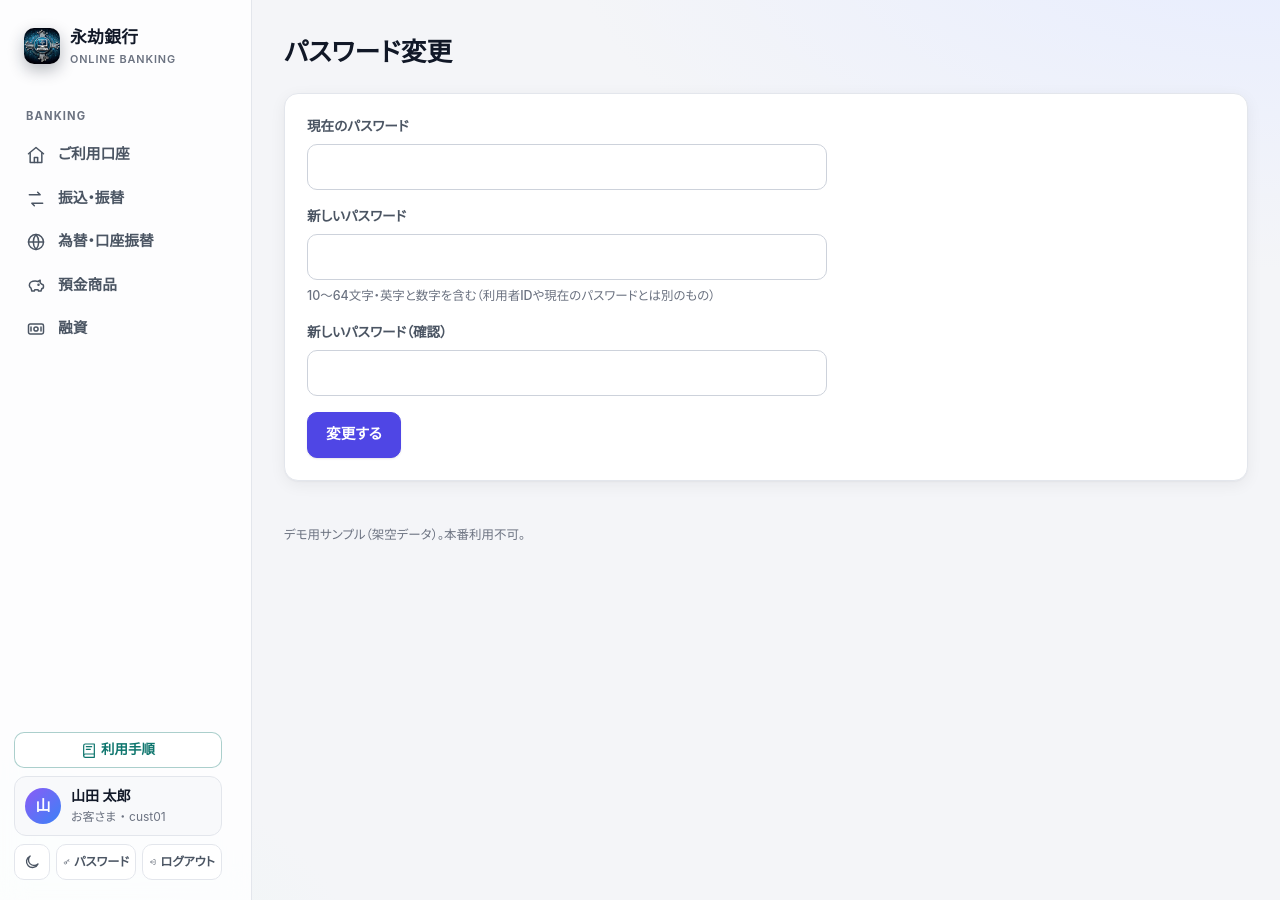
Test: PasswordPage › 変更に成功したら入力を消してトップへ移動する
Type "OldPass2025" into the password field labelled "現在のパスワード".
click(567, 167); type("OldPass2025")  # box [307, 144, 827, 190]
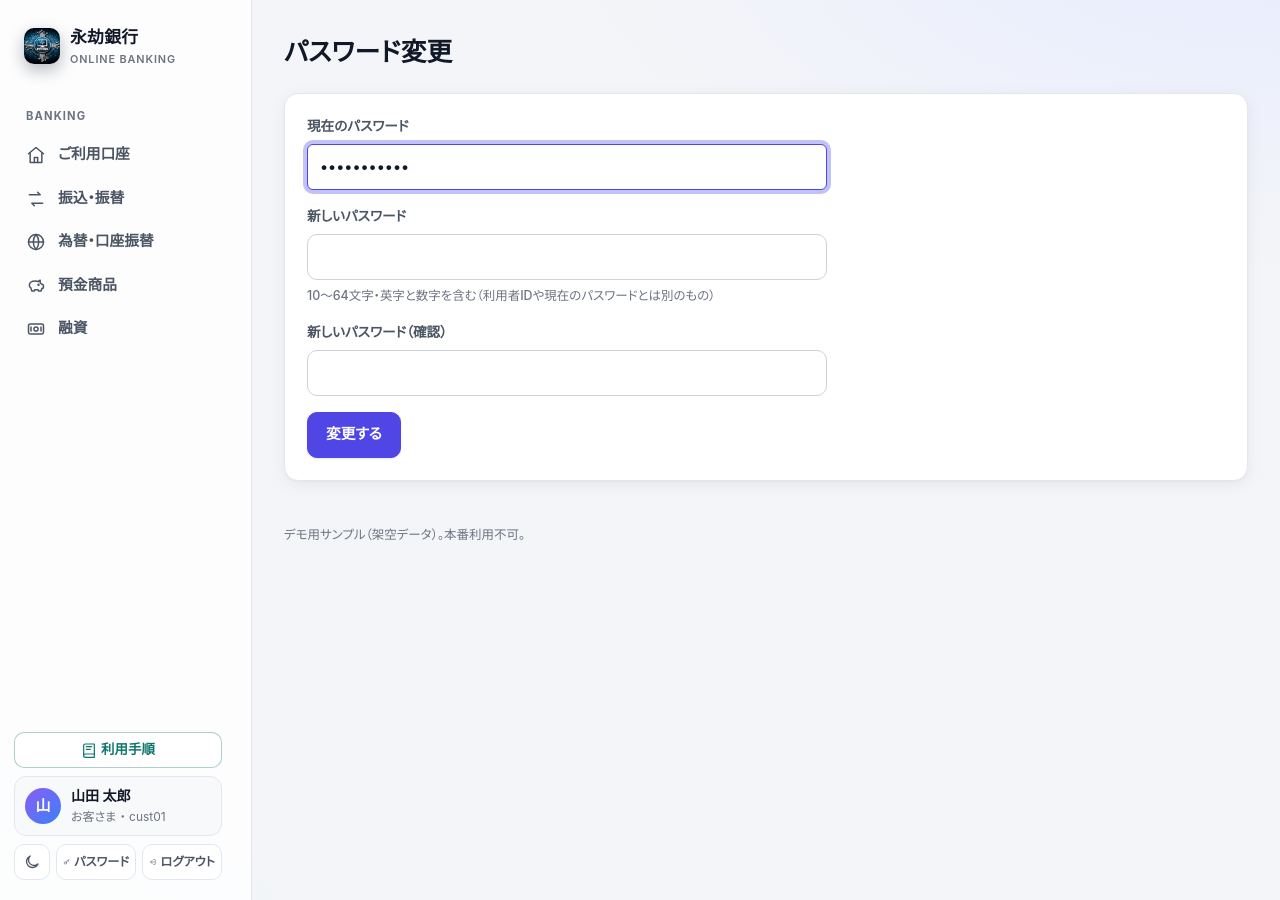
Type "NewPass2026x" into the password field labelled "新しいパスワード 10〜64文字・英字と数字を含む（利用者IDや現在のパスワードとは別のもの）".
click(567, 257); type("NewPass2026x")  # box [307, 234, 827, 280]
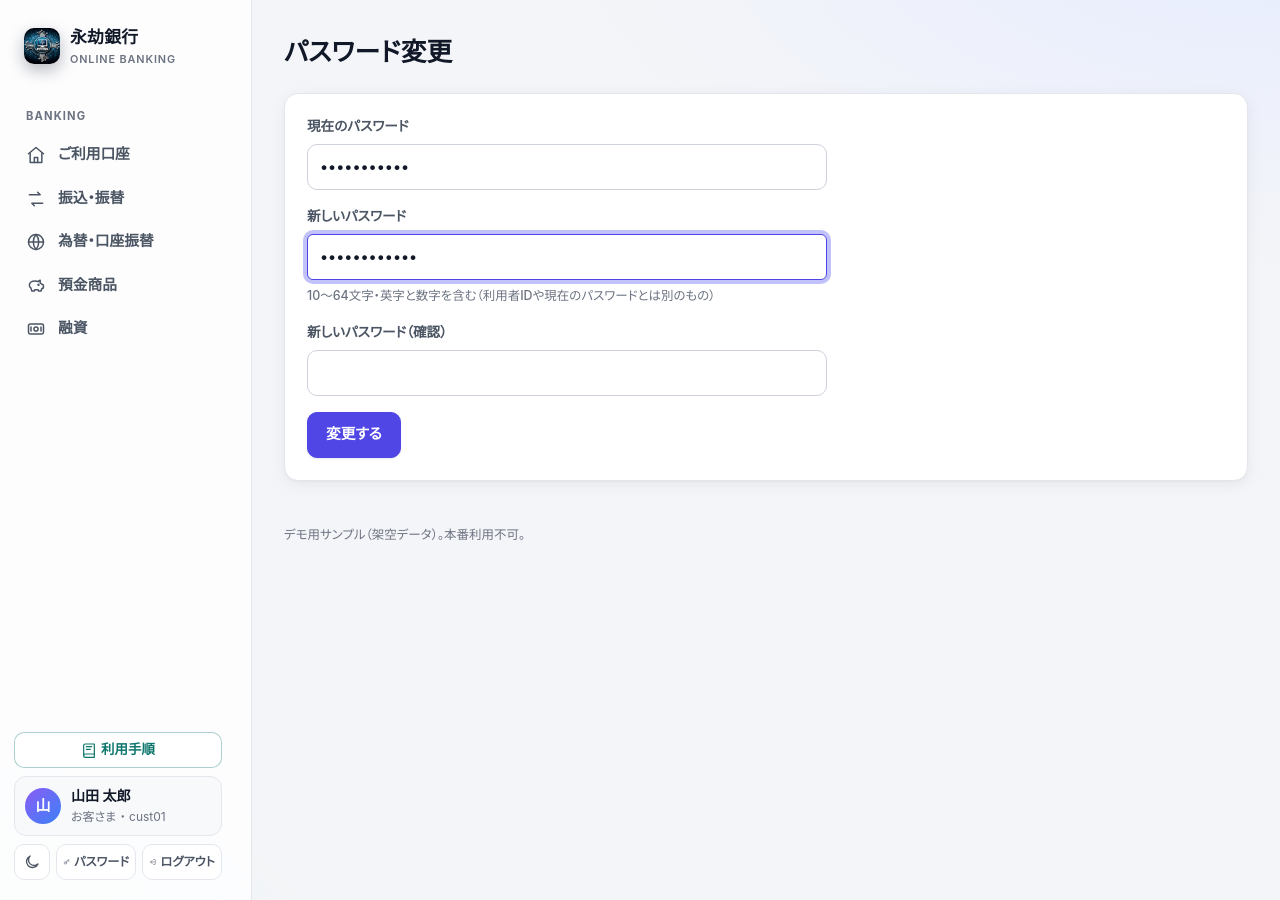
Type "NewPass2026x" into the password field labelled "新しいパスワード（確認）".
click(567, 373); type("NewPass2026x")  # box [307, 350, 827, 396]
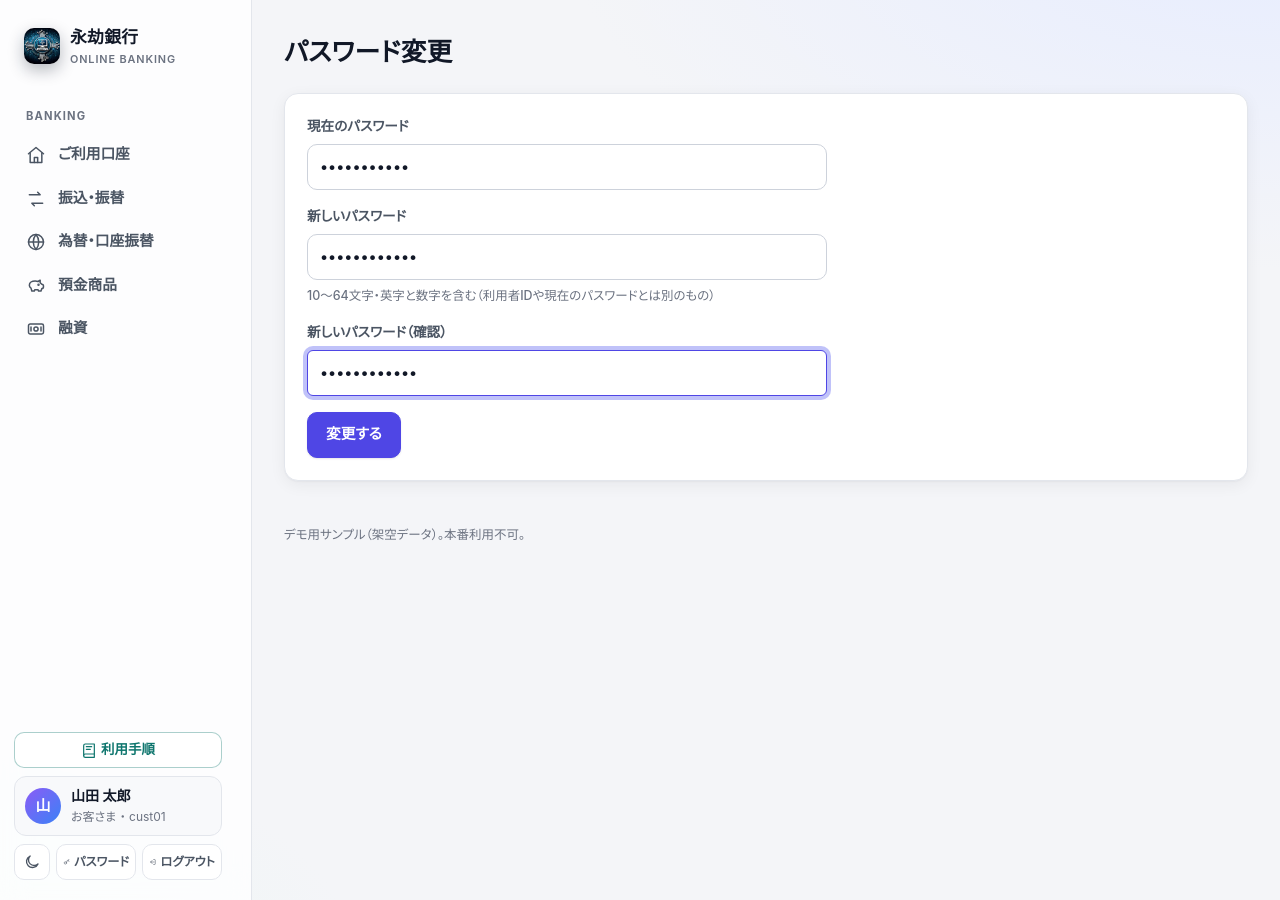
Click the button "変更する".
click(354, 435)  # box [307, 412, 401, 458]
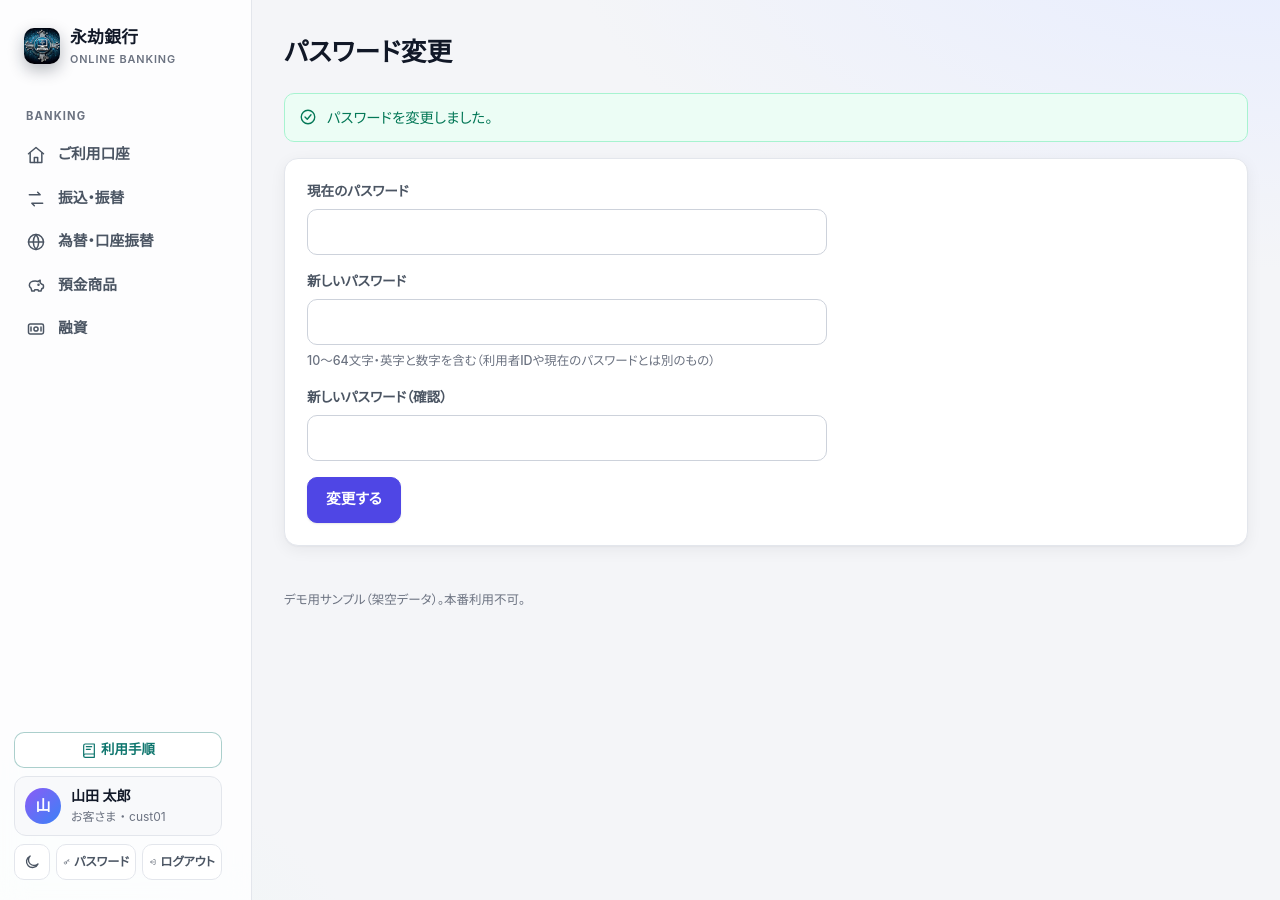
expect the text "パスワードを変更しました。" is shown: met, box [327, 106, 492, 129]
expect the password field labelled "現在のパスワード" is empty: met, box [307, 209, 827, 255]
